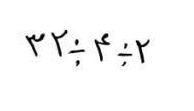character: (23, 31, 47, 59), (93, 31, 112, 64), (49, 28, 69, 59), (68, 37, 87, 68), (133, 37, 152, 65), (116, 41, 134, 69)
